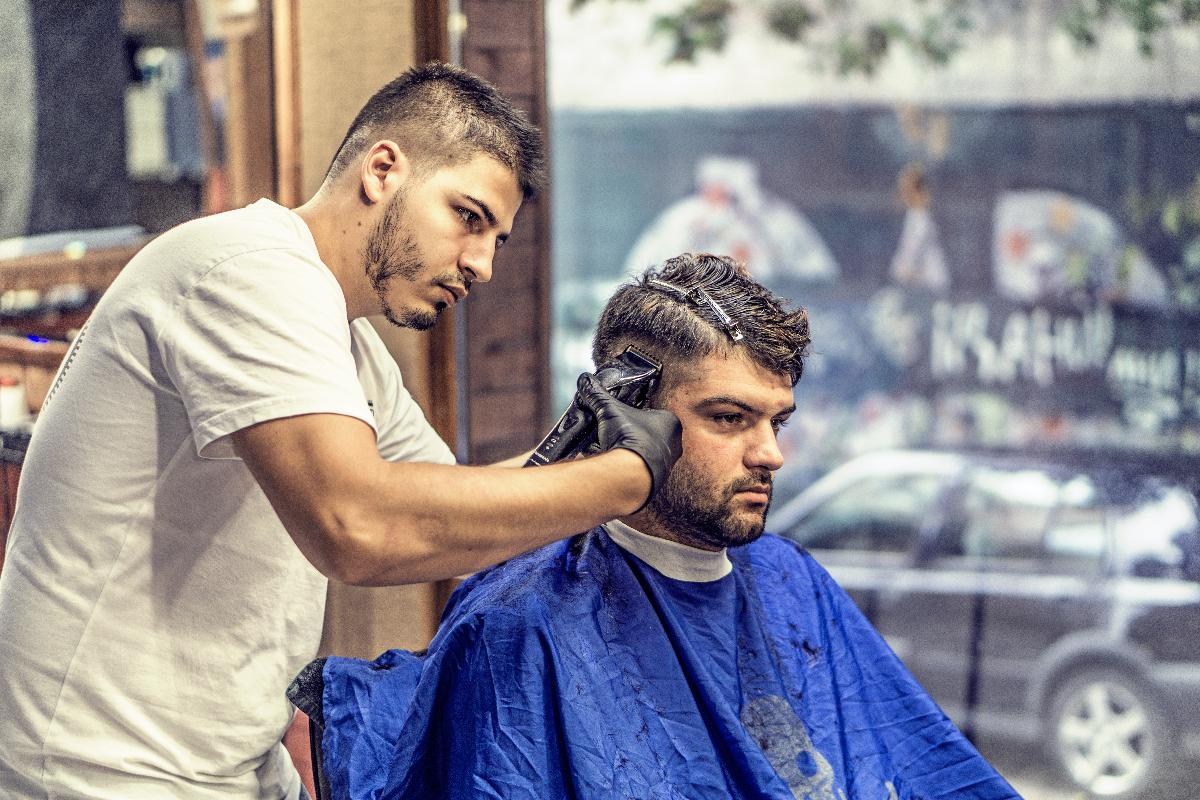Person: (13, 62, 668, 770), (480, 262, 994, 800)
